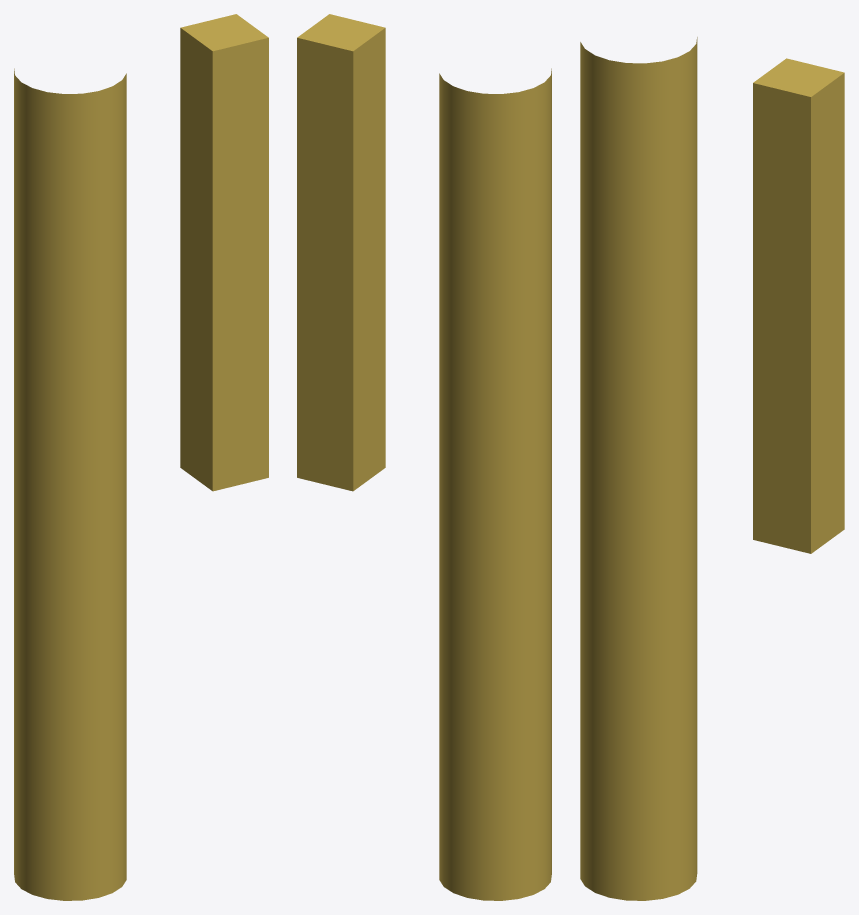
Rendered from trombone.glb.
3 views of the same model, side by side, from view 1: azimuth 30°, elevation 25°; view 2: azimuth 150°, elevation 25°; view 3: azimuth 330°, elevation 25° (orthographic). The views are drawn at different scales.
Parts seen in each view (by area): view 1: trombone; view 2: trombone; view 3: trombone.
Boxes of the visible parts, x1,y1,x2,y2 form: trombone: [14, 14, 268, 900]; trombone: [297, 14, 551, 900]; trombone: [580, 37, 844, 900].
Size of the model in its own units: 0.33 by 1.1 by 0.14.
